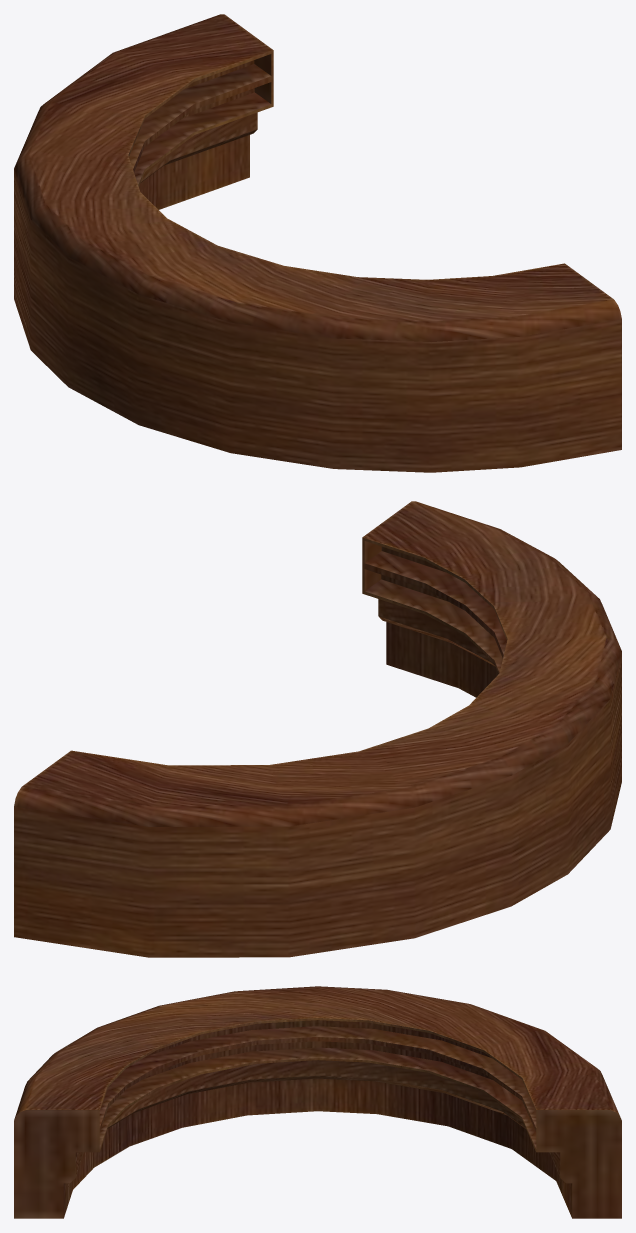
File: bowl_desk.glb
3 views of the same model, one above another, from view 1: azimuth 30°, elevation 25°; view 2: azimuth 150°, elevation 25°; view 3: azimuth 270°, elevation 25° (orthographic). The views are drawn at different scales.
Visible parts, largest first — view 1: bowl_desk; view 2: bowl_desk; view 3: bowl_desk.
Boxes of the visible parts, bbox=[...] form: bowl_desk: bbox=[14, 14, 621, 472]; bowl_desk: bbox=[14, 501, 621, 957]; bowl_desk: bbox=[14, 986, 621, 1218].
Bounding box in the file's own units: 1.72 × 0.6763 × 3.43.
Materials: 1 (1 with a texture image).
